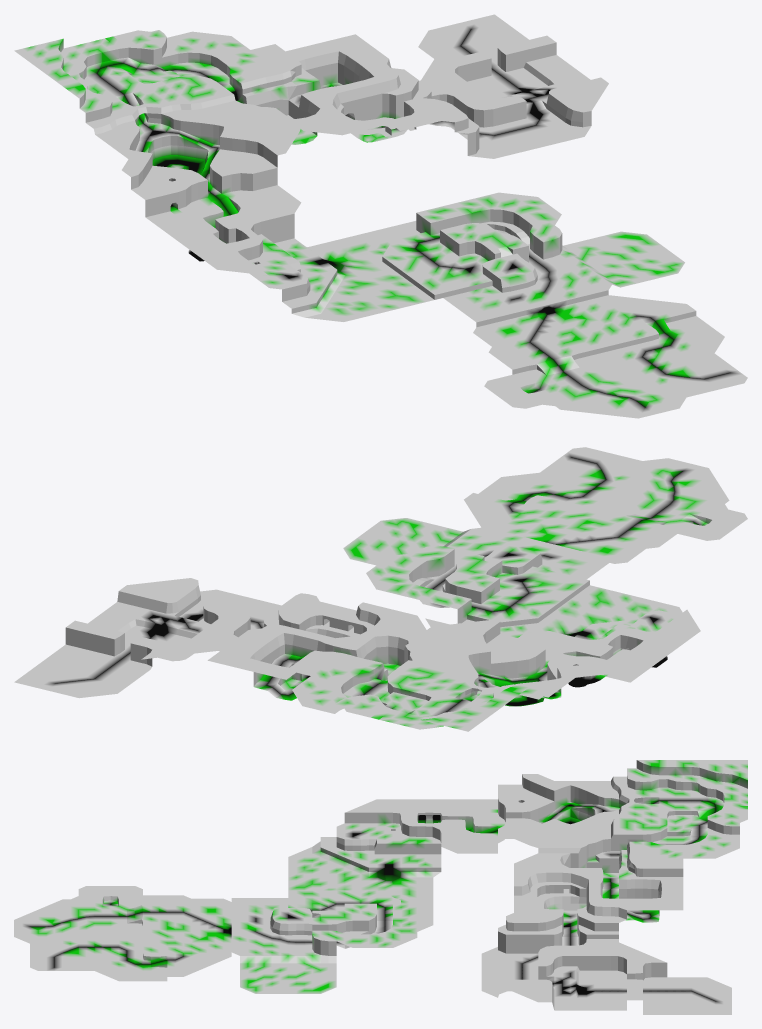
The model's file is level-3.glb.
3 renders of one model, top to bottom at view 1: azimuth 30°, elevation 25°; view 2: azimuth 150°, elevation 25°; view 3: azimuth 270°, elevation 25°, orthographic. The views are drawn at different scales.
Parts seen in each view (by area): view 1: level-3; view 2: level-3; view 3: level-3.
Boxes of the visible parts, x1,y1,x2,y2 form: level-3: (14, 14, 747, 418); level-3: (14, 447, 747, 731); level-3: (14, 760, 747, 1014).
Bounding box in the file's own units: 206 × 41 × 318.
